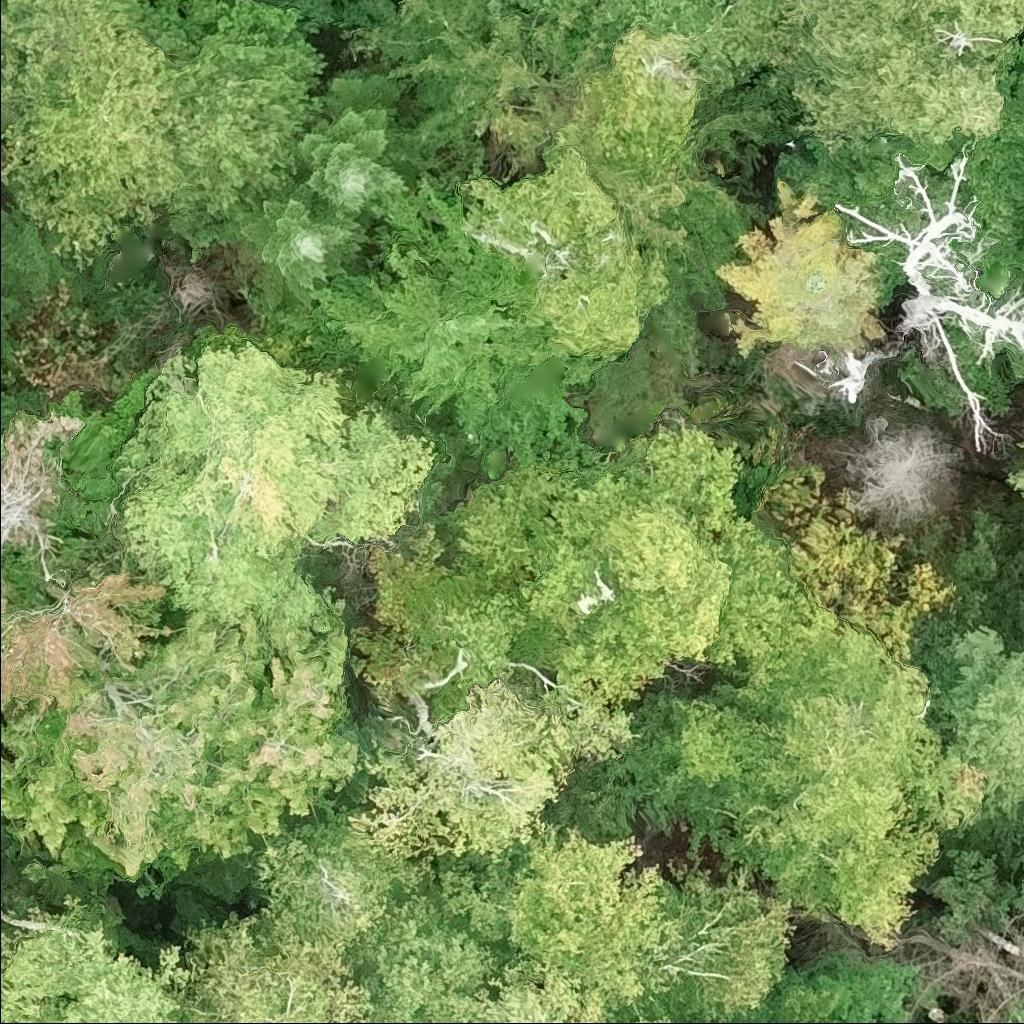crown: (608, 609, 992, 950), (452, 422, 816, 765), (117, 340, 435, 629), (137, 584, 359, 879), (0, 0, 220, 276), (461, 115, 688, 359), (843, 150, 1023, 445), (347, 684, 577, 862), (168, 0, 328, 252), (769, 0, 1023, 156), (0, 696, 207, 883), (370, 523, 562, 724), (502, 826, 673, 1023), (0, 553, 178, 721), (257, 805, 416, 974), (0, 891, 198, 1023), (169, 906, 377, 1023), (645, 862, 796, 1019), (910, 620, 1023, 823), (571, 23, 699, 183), (231, 177, 371, 316), (294, 64, 422, 214), (840, 415, 967, 536), (618, 971, 845, 1023), (473, 956, 607, 1023), (0, 201, 82, 306), (0, 453, 64, 581), (0, 290, 20, 385), (1005, 434, 1023, 504), (170, 0, 206, 13), (1017, 41, 1023, 66), (1021, 199, 1023, 225)
